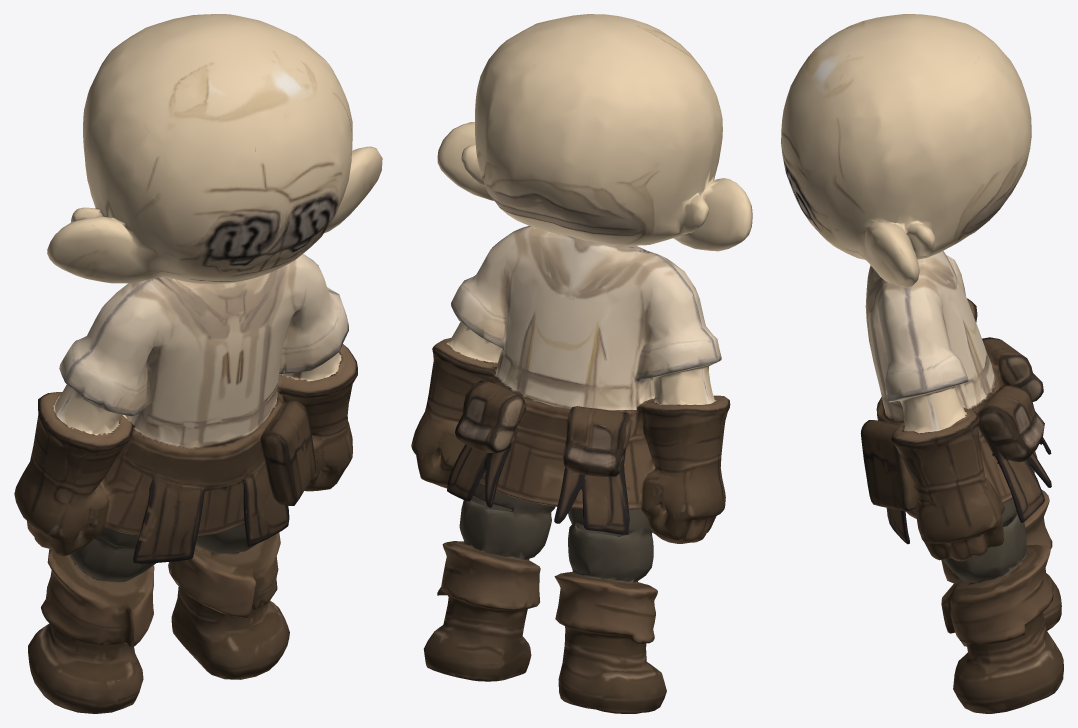
The picture shows the model from 3 angles, left to right: view 1: azimuth 30°, elevation 25°; view 2: azimuth 150°, elevation 25°; view 3: azimuth 270°, elevation 25°; orthographic projection. The views are drawn at different scales.
Bounding box in the file's own units: 0.4855 × 0.954 × 0.3811.
1 material, 1 textured.
